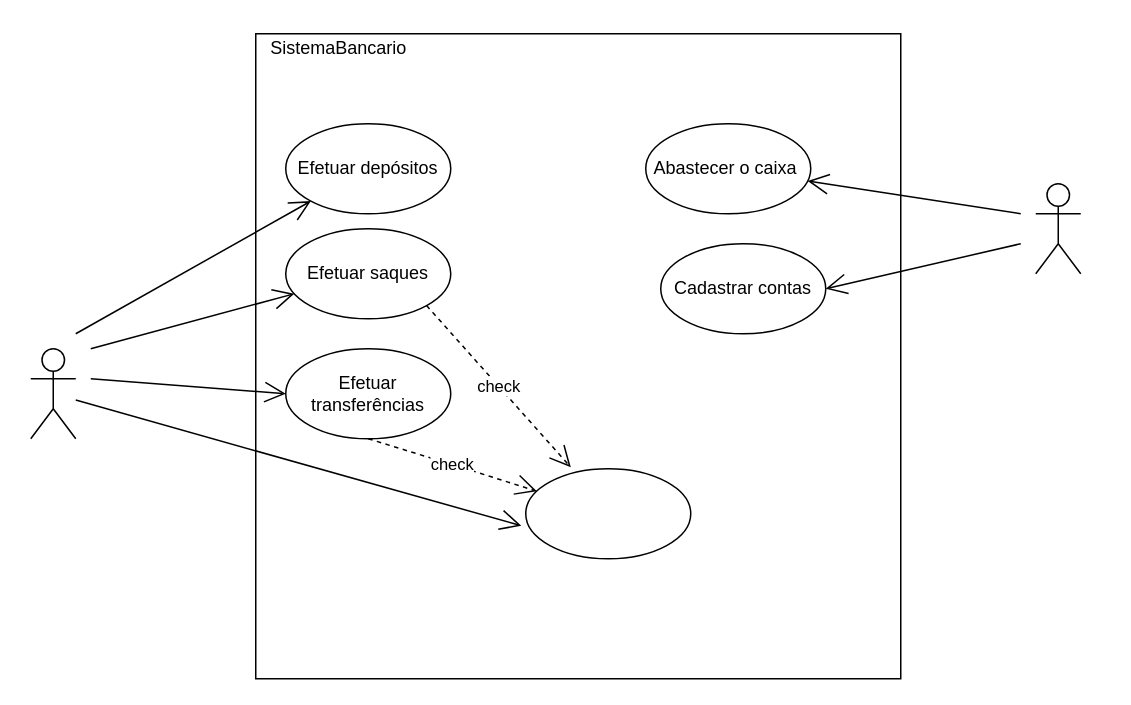
The diagram is 1131 pixels wide and 705 high, and some of its shapes have lost their labels. Each missing label, with the centre of its shape:
"Cliente" goes at [52,393].
"Funcionário" goes at [1057,228].
"Verificar saldo" goes at [607,513].
